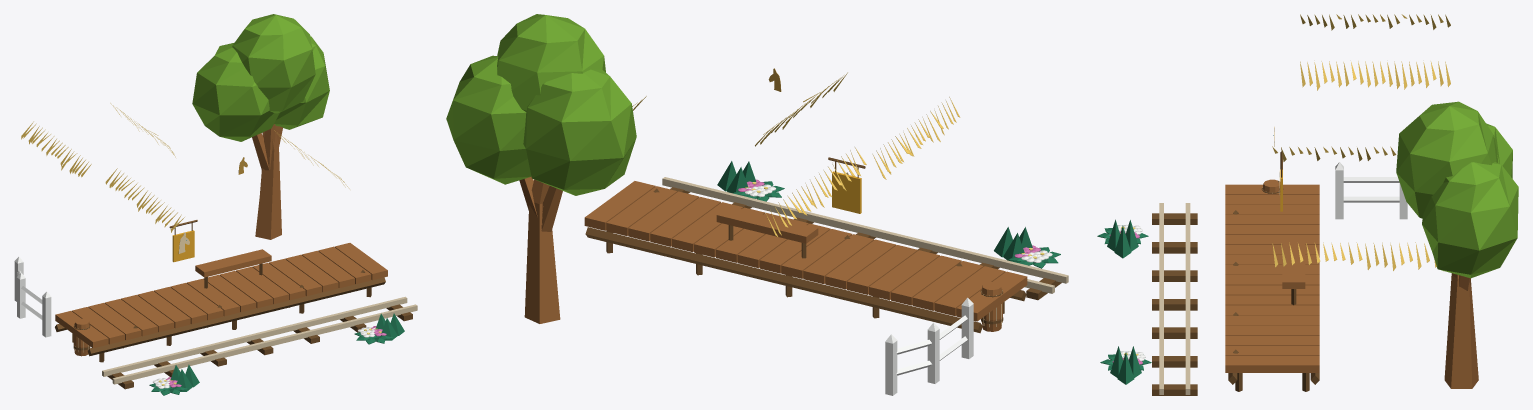
The model's file is decoration.glb.
3 views of the same model, side by side, from view 1: azimuth 30°, elevation 25°; view 2: azimuth 150°, elevation 25°; view 3: azimuth 270°, elevation 25° (orthographic). The views are drawn at different scales.
Visible parts, largest first — view 1: 04_Station_OpenDeckAndRail, 04_Station_BroadCanopyTree, 04_R2_ReferenceSpecificPaperDetails; view 2: 04_Station_OpenDeckAndRail, 04_Station_BroadCanopyTree, 04_R2_ReferenceSpecificPaperDetails; view 3: 04_Station_OpenDeckAndRail, 04_Station_BroadCanopyTree, 04_R2_ReferenceSpecificPaperDetails.
Part boxes in pixels (left/top/right/bottom): 04_Station_OpenDeckAndRail: left=14, top=243, right=417, bottom=389; 04_Station_BroadCanopyTree: left=149, top=14, right=404, bottom=395; 04_R2_ReferenceSpecificPaperDetails: left=21, top=103, right=364, bottom=348; 04_Station_OpenDeckAndRail: left=584, top=177, right=1068, bottom=395; 04_Station_BroadCanopyTree: left=446, top=14, right=1060, bottom=323; 04_R2_ReferenceSpecificPaperDetails: left=632, top=68, right=962, bottom=266; 04_Station_OpenDeckAndRail: left=1152, top=162, right=1407, bottom=395; 04_Station_BroadCanopyTree: left=1097, top=101, right=1518, bottom=388; 04_R2_ReferenceSpecificPaperDetails: left=1233, top=14, right=1450, bottom=353.
Size of the model in its own units: 1.36 by 0.8484 by 1.16.
